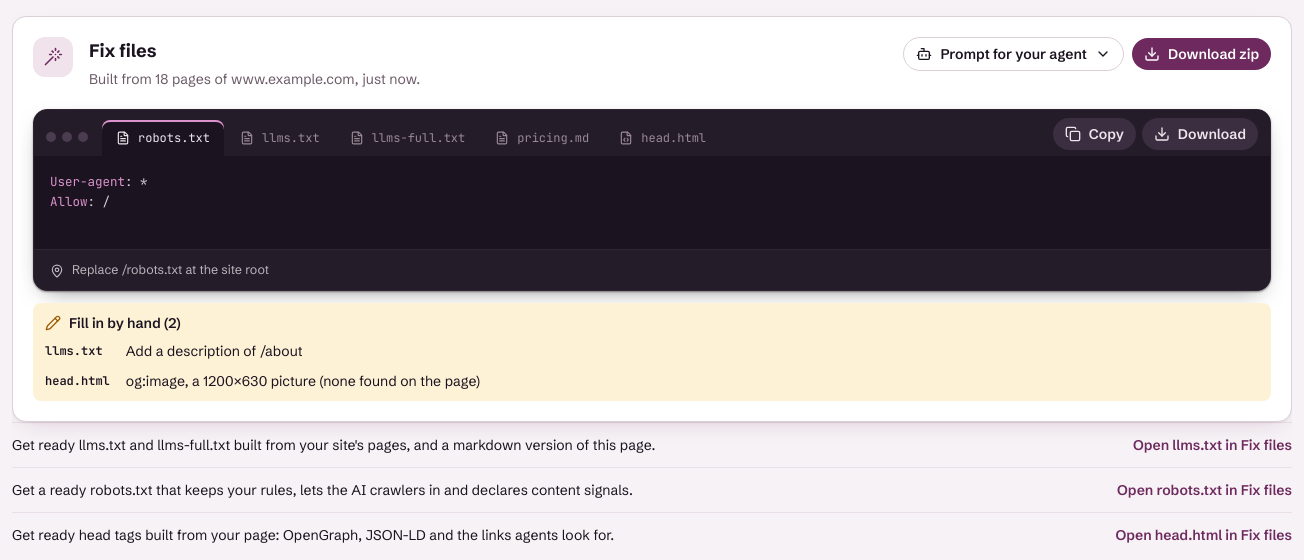
Scenario: Fix files › category footer opens its file
The width and height of the screenshot is (1304, 560).
Click the link "Open llms.txt in Fix files" at (1212, 445), box [1133,435,1292,455]
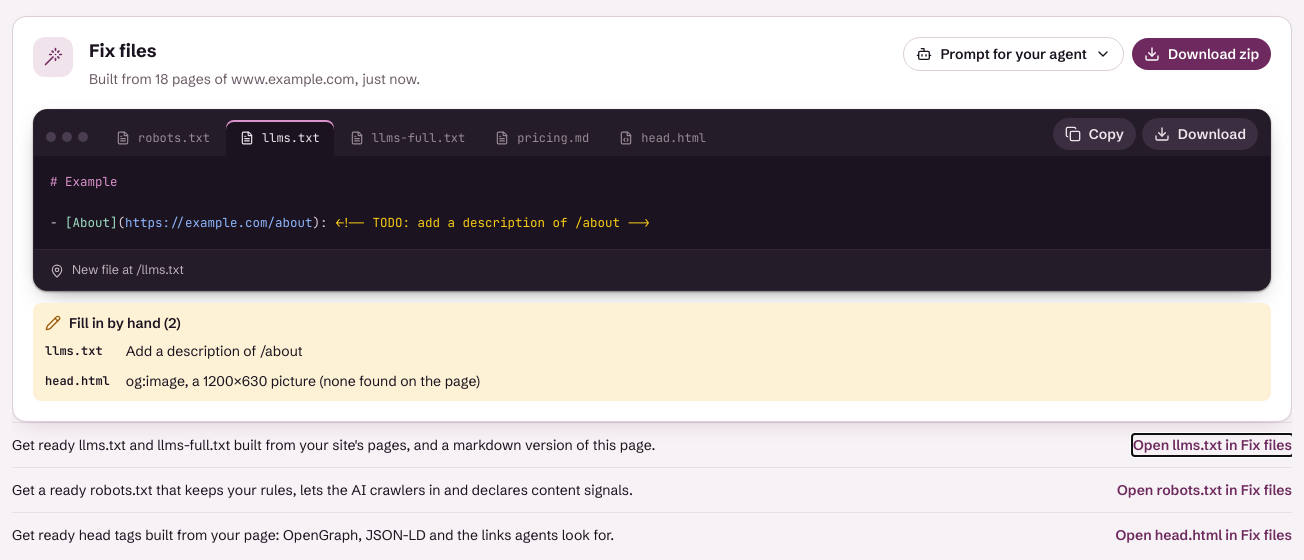
Result: the text "New file at /llms.txt" is shown at [72,260,184,280]
